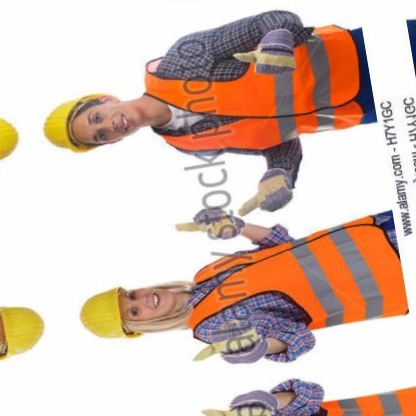vest: (171, 210, 413, 362), (133, 16, 371, 170)
yellow: (34, 90, 108, 161), (73, 280, 138, 351)
